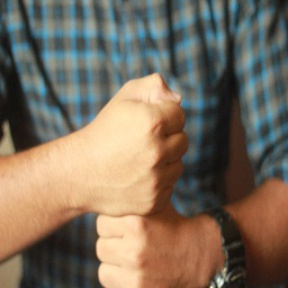G: (87, 69, 197, 288)
